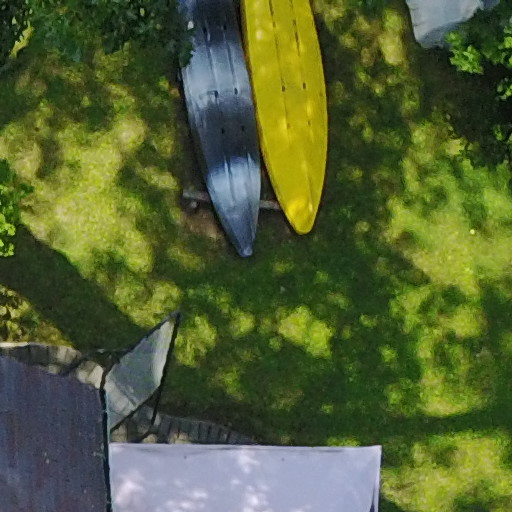kayak: (239, 1, 335, 256), (184, 1, 259, 276)
toy: (241, 1, 337, 256), (186, 1, 261, 276)
